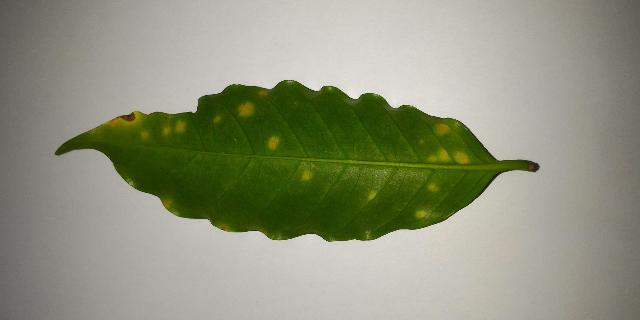miner: (98, 111, 149, 129), (427, 148, 451, 163), (454, 150, 470, 165), (238, 102, 255, 116), (436, 122, 450, 134), (416, 210, 431, 217), (162, 199, 171, 210), (302, 169, 311, 180), (269, 137, 278, 148), (368, 190, 377, 200), (177, 122, 185, 131), (429, 184, 436, 191), (163, 127, 169, 134), (214, 116, 221, 122), (142, 132, 148, 138), (259, 91, 266, 96)
